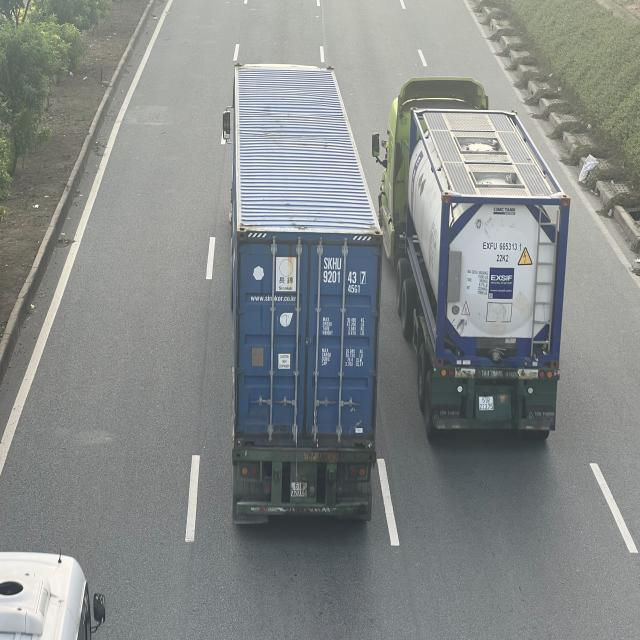container: (224, 68, 384, 530), (380, 78, 564, 442)
